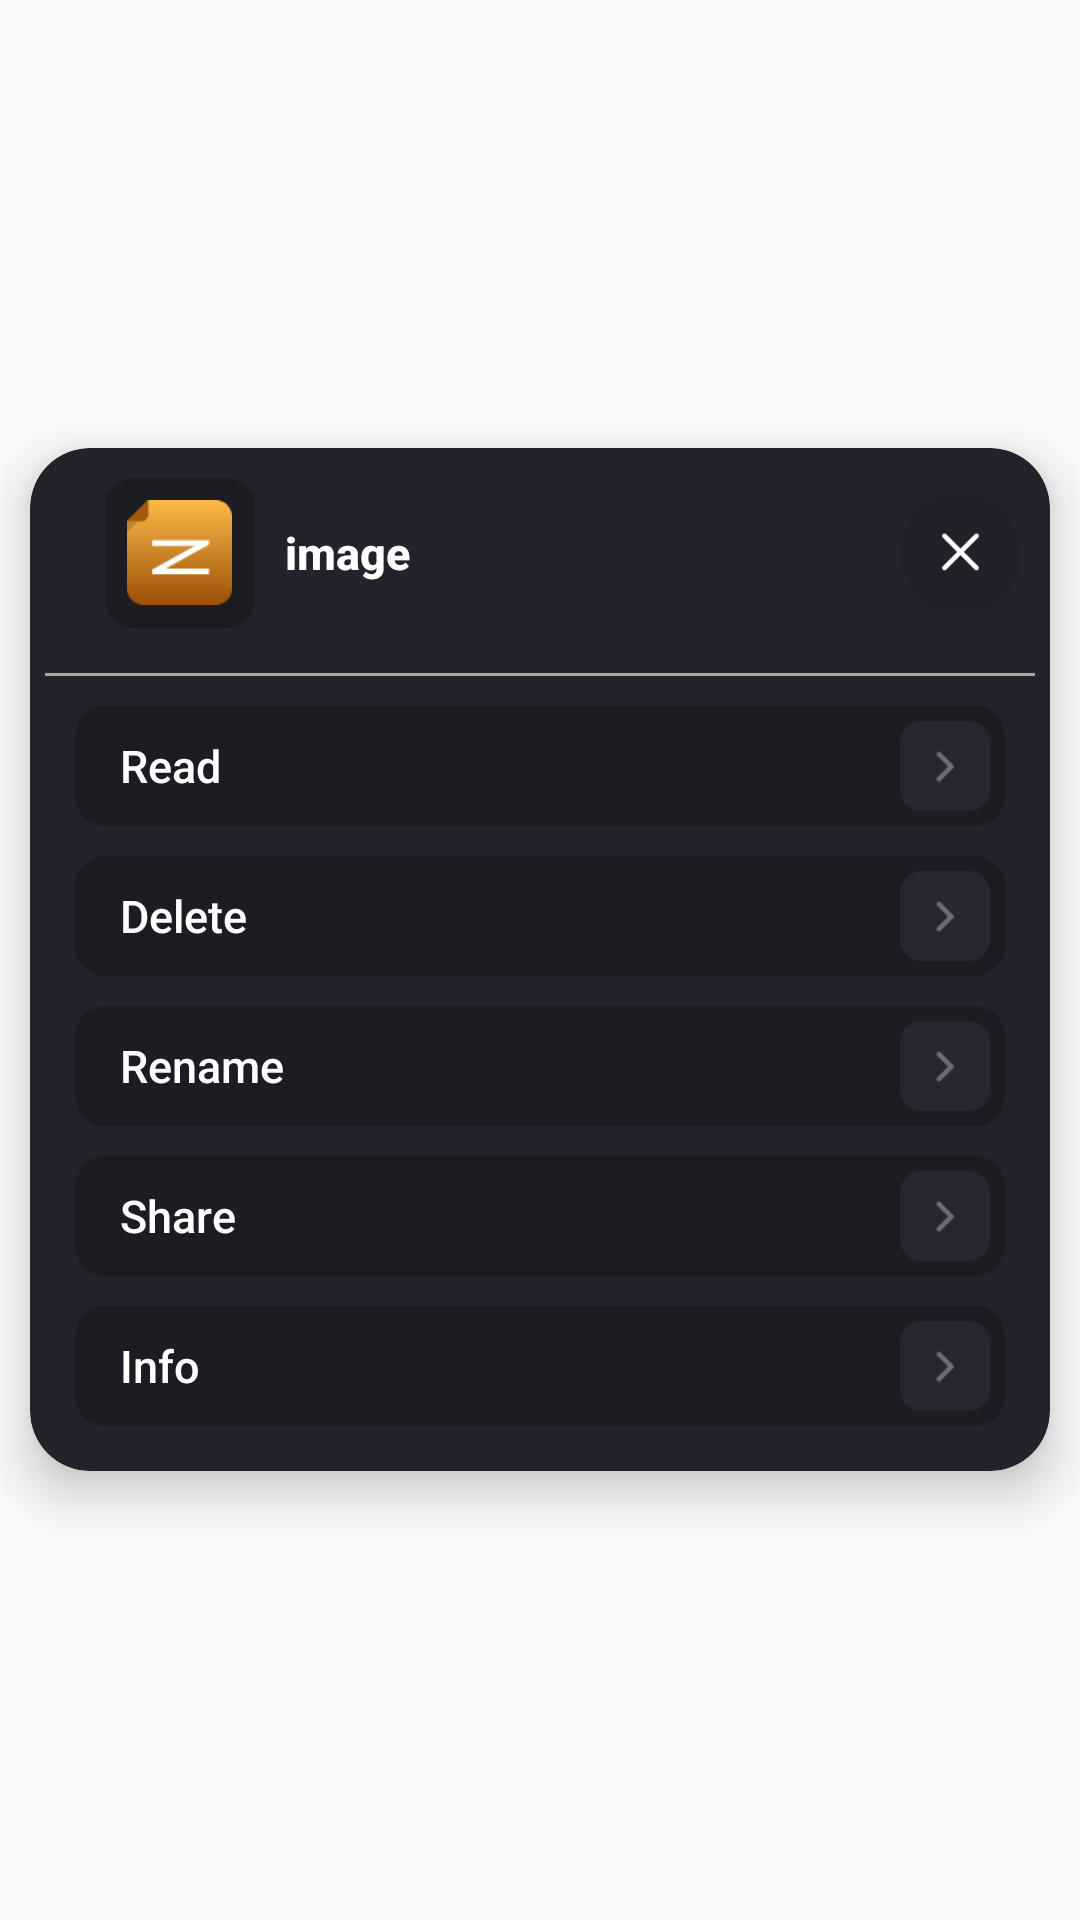

Screen size 1080px×1920px. Icon name, then its center in pixels as (x,y):
next: (945,766), (945,916), (945,1066), (945,1216), (945,1366)
